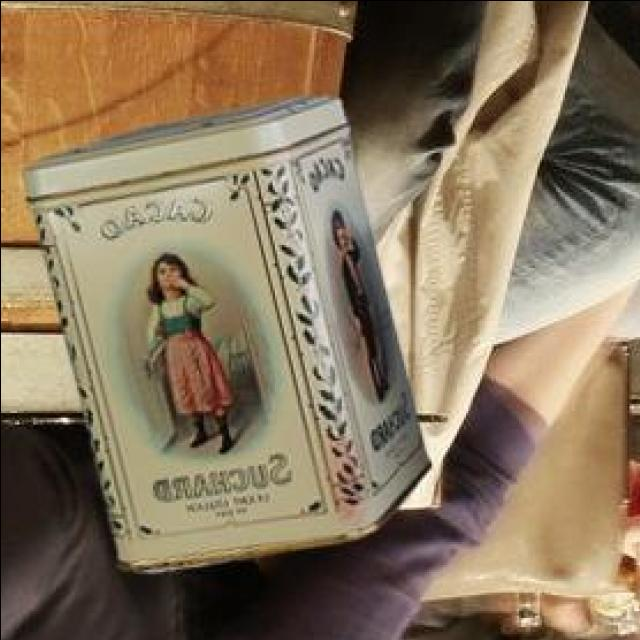logam: (20, 98, 427, 574)
